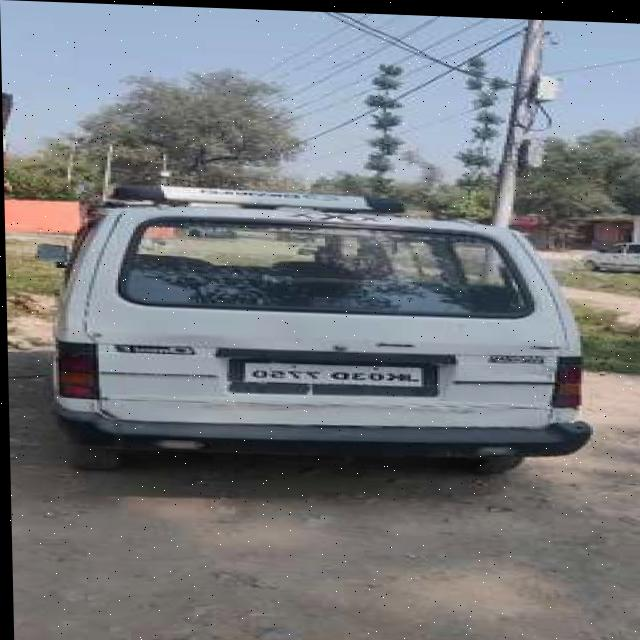plate: (239, 358, 424, 387)
